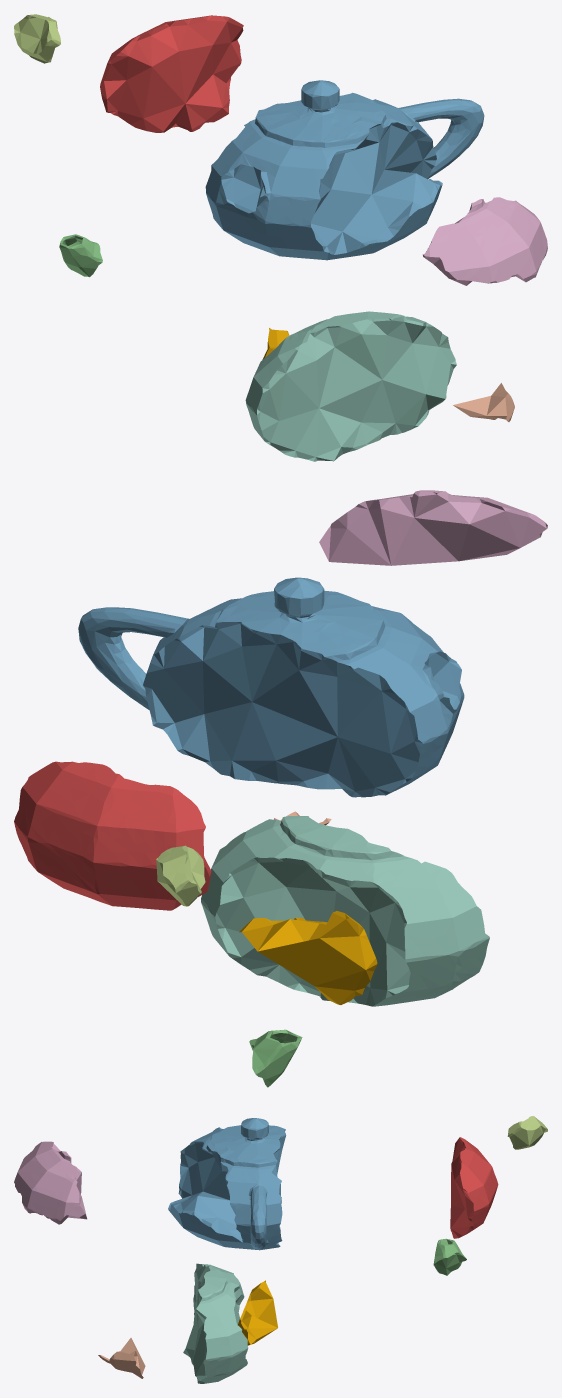
Rendered from fractured_54_8pcs_transformed.glb.
3 renders of one model, top to bottom at view 1: azimuth 30°, elevation 25°; view 2: azimuth 150°, elevation 25°; view 3: azimuth 270°, elevation 25°, orthographic. The views are drawn at different scales.
Parts seen in each view (by area): view 1: piece_2.obj, piece_4.obj, piece_1.obj, piece_6.obj, piece_5.obj, piece_3.obj, piece_7.obj; view 2: piece_2.obj, piece_4.obj, piece_1.obj, piece_6.obj, piece_0.obj, piece_5.obj, piece_3.obj; view 3: piece_2.obj, piece_4.obj, piece_6.obj, piece_1.obj, piece_0.obj, piece_5.obj, piece_7.obj, piece_3.obj.
Boxes of the visible parts, x1,y1,x2,y2 form: piece_2.obj: [205, 80, 484, 260]; piece_4.obj: [245, 311, 456, 461]; piece_1.obj: [100, 15, 243, 132]; piece_6.obj: [422, 197, 547, 285]; piece_5.obj: [14, 14, 60, 63]; piece_3.obj: [59, 234, 102, 277]; piece_7.obj: [453, 383, 514, 421]; piece_2.obj: [78, 577, 464, 797]; piece_4.obj: [201, 816, 489, 1006]; piece_1.obj: [14, 761, 211, 910]; piece_6.obj: [319, 490, 547, 565]; piece_0.obj: [239, 911, 377, 1004]; piece_5.obj: [156, 845, 205, 906]; piece_3.obj: [249, 1029, 302, 1087]; piece_2.obj: [168, 1118, 286, 1250]; piece_4.obj: [183, 1263, 248, 1383]; piece_6.obj: [14, 1141, 87, 1224]; piece_1.obj: [450, 1137, 498, 1238]; piece_0.obj: [238, 1280, 277, 1345]; piece_5.obj: [507, 1116, 547, 1149]; piece_7.obj: [98, 1338, 145, 1378]; piece_3.obj: [433, 1238, 466, 1275].
Bounding box in the file's own units: 1 × 1.09 × 2.13.
